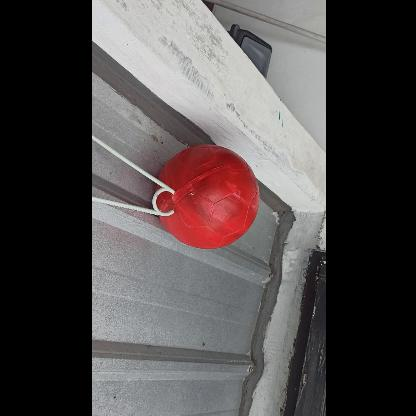red_ball: (156, 146, 260, 250)
